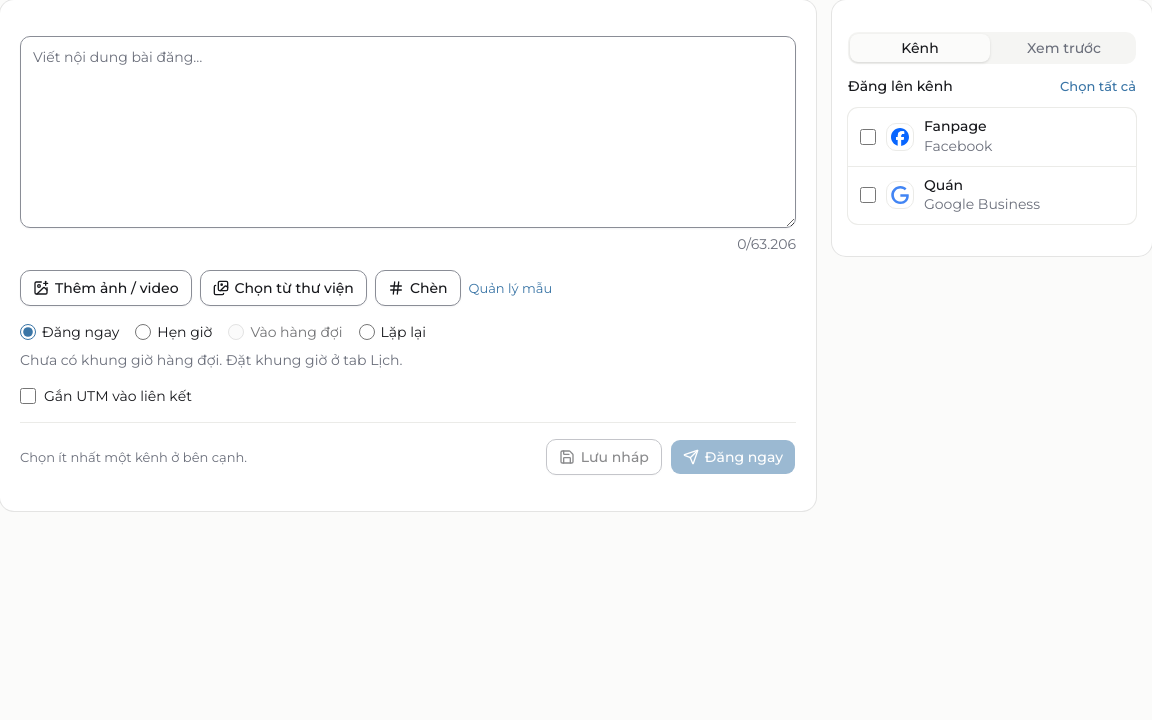
Test: ô soạn — Gắn UTM › xem trước liên kết đầu tiên theo kênh đầu; chưa chọn kênh ⇒ nhắc chọn; không có liên kết ⇒ báo
This screenshot has width=1152, height=720.
Type "Xem https://shop.vn/sp." into the text box labelled "nội dung bài đăng" at (408, 132), box [20, 36, 796, 228]
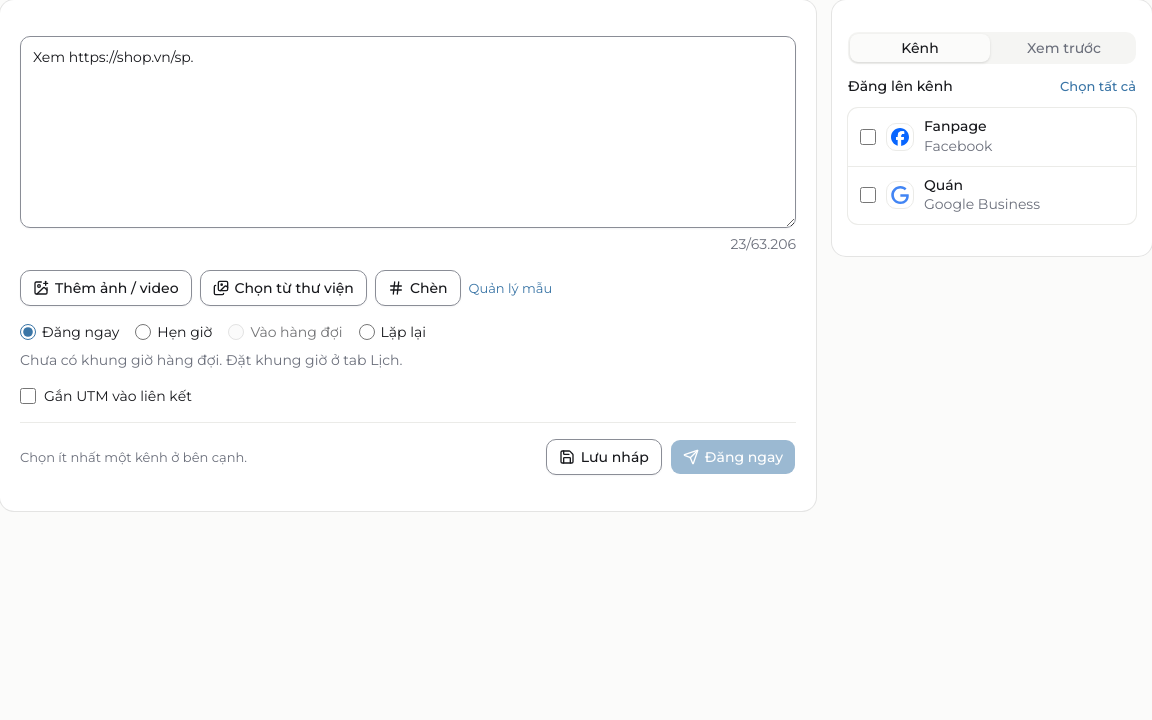
Click the checkbox labelled "Gắn UTM vào liên kết" at (28, 396), box [20, 388, 36, 404]
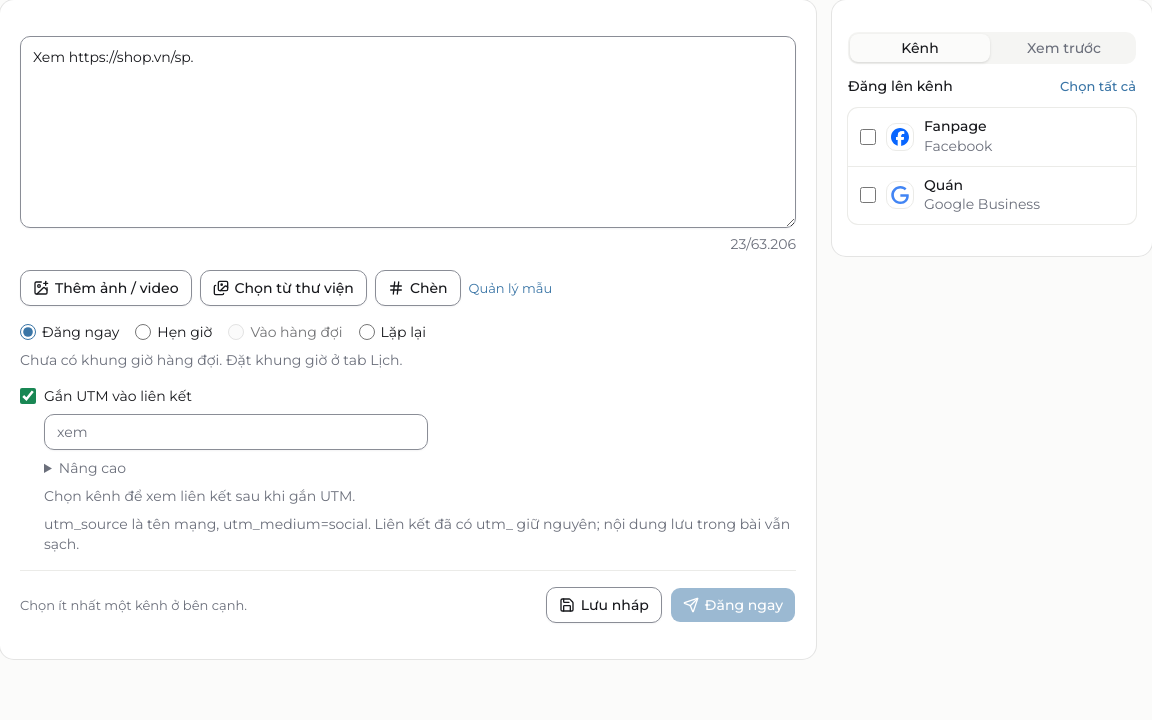
Expected: the text with test id "utm-preview" shows "Chọn kênh", [44, 487, 355, 505]
Click the checkbox labelled "Fanpage Facebook" at (868, 137), box [860, 129, 876, 145]
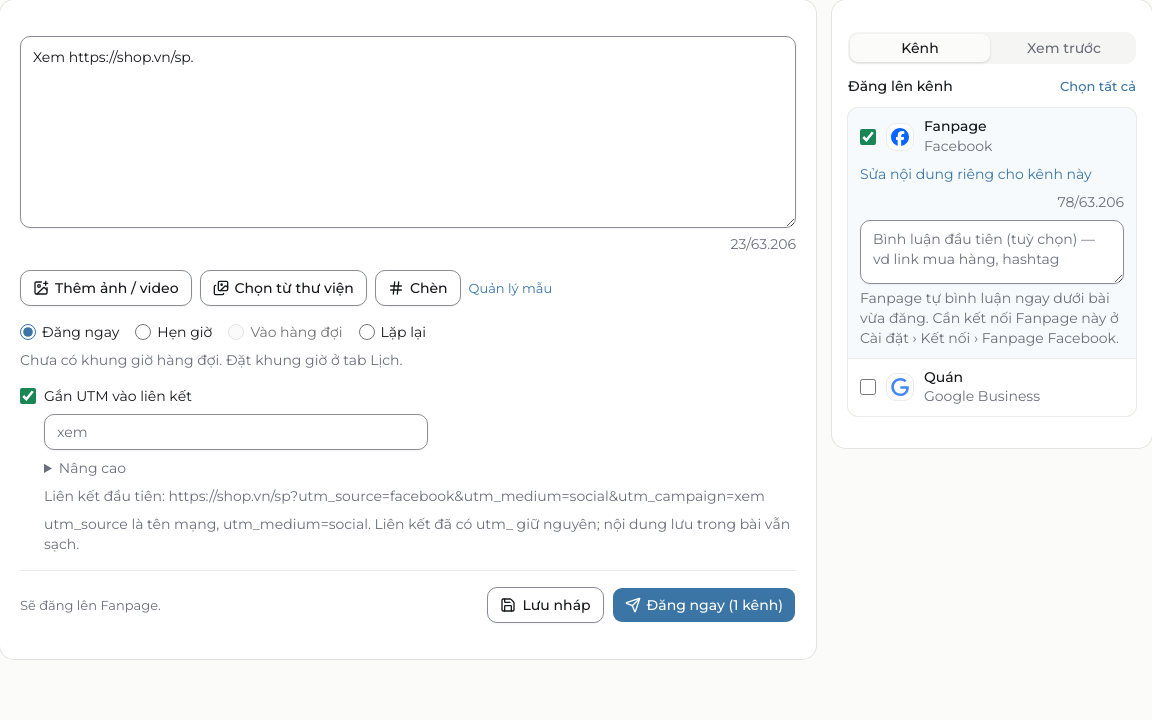
Type "thu 2026" into the field named "Tên chiến dịch (utm_campaign)" at (236, 432), box [44, 414, 428, 450]
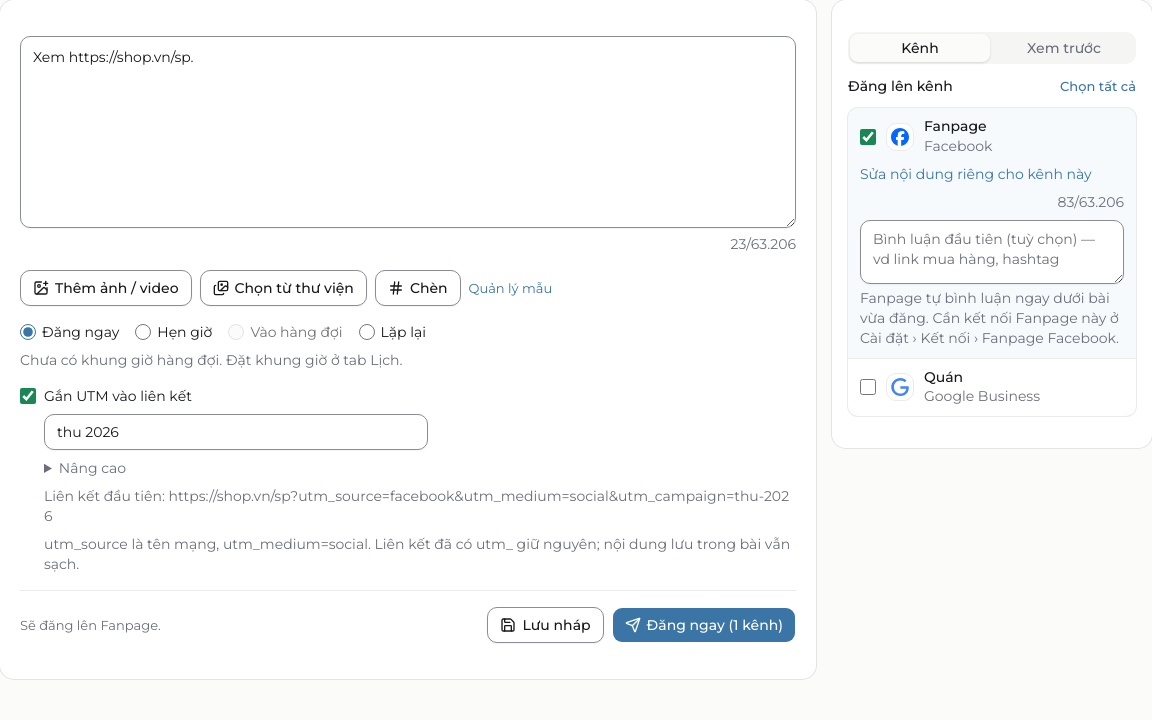
Expected: the text with test id "utm-preview" shows "https://shop.vn/sp?utm_source=facebook&utm_medium=social&utm_campaign=thu-2026", [44, 487, 789, 525]
Replace the text in the text box named "nội dung bài đăng" with "Không có link" at (408, 132), box [20, 36, 796, 228]
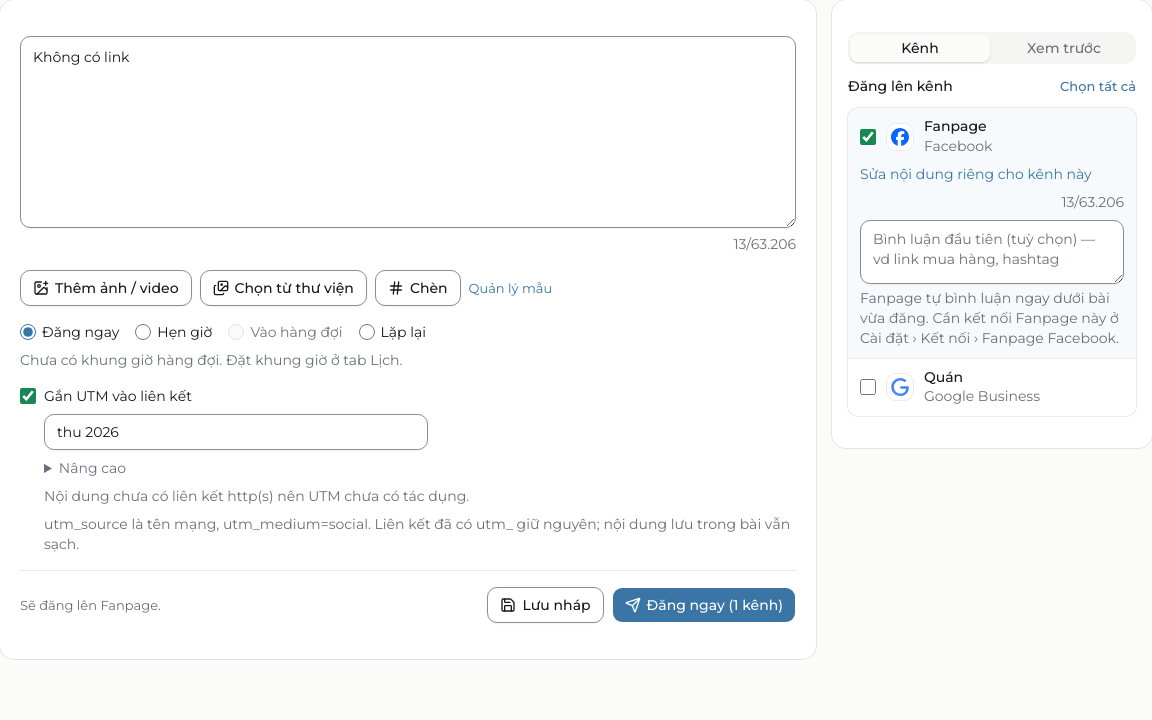
Expected: the text with test id "utm-preview" shows "chưa có liên kết", [44, 487, 469, 505]
